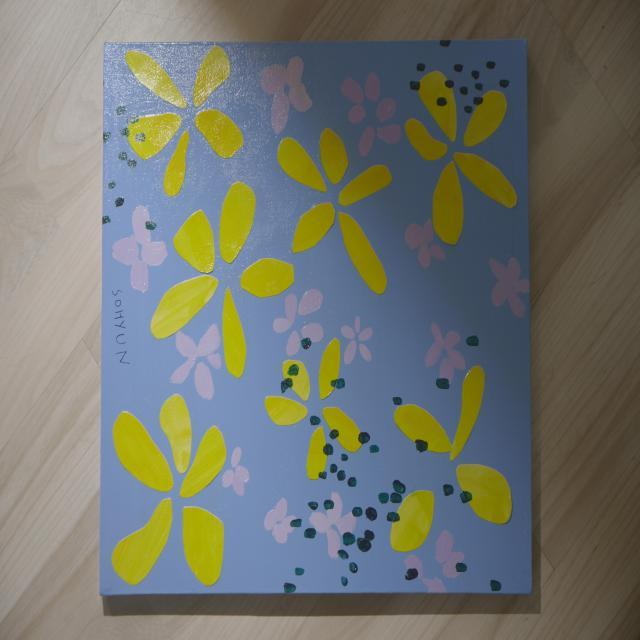painting: (100, 40, 531, 595)
